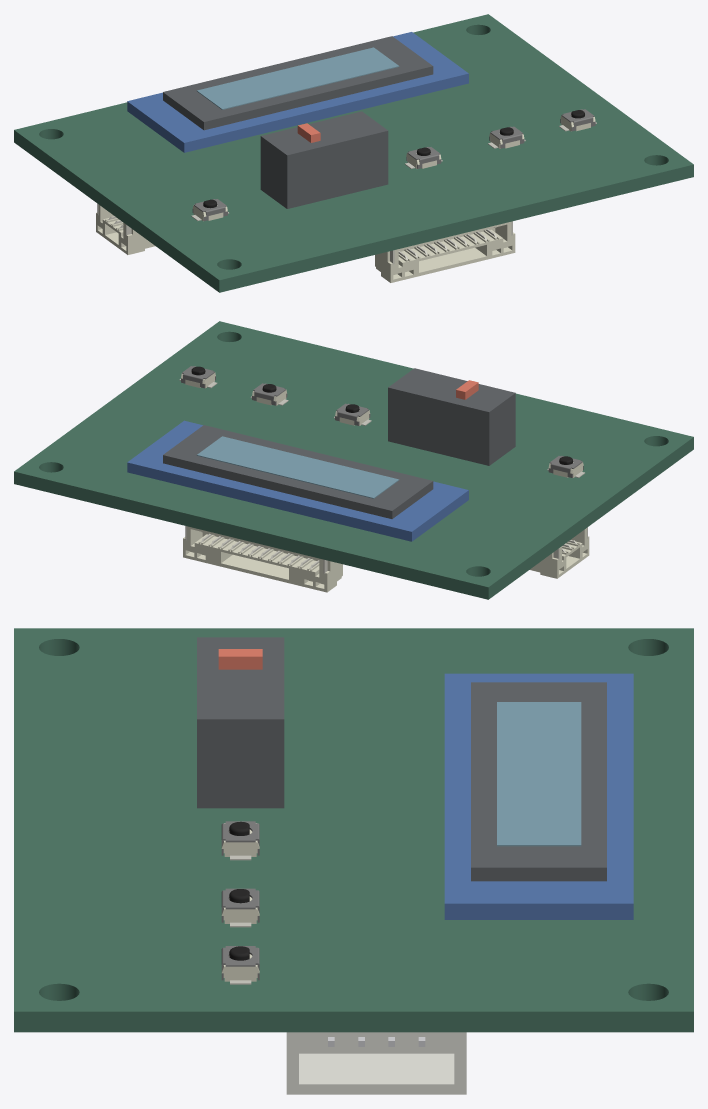
File: pump-panel-rev-f-with-display.glb
3 views of the same model, one above another, from view 1: azimuth 30°, elevation 25°; view 2: azimuth 150°, elevation 25°; view 3: azimuth 270°, elevation 25° (orthographic). The views are drawn at different scales.
Parts seen in each view (by area): view 1: =>[0:1:1:36], =>[0:1:1:9], =>[0:1:1:5], =>[0:1:1:6], =>[0:1:1:7], =>[0:1:1:35], =>[0:1:1:3] (×4), =>[0:1:1:19]; view 2: =>[0:1:1:36], =>[0:1:1:9], =>[0:1:1:5], =>[0:1:1:6], =>[0:1:1:33], =>[0:1:1:7], =>[0:1:1:3] (×4), =>[0:1:1:19]; view 3: =>[0:1:1:36], =>[0:1:1:5], =>[0:1:1:6], =>[0:1:1:9], =>[0:1:1:7], =>[0:1:1:24], =>[0:1:1:3] (×3), =>[0:1:1:27], =>[0:1:1:10], =>[0:1:1:23].
Part boxes in pixels (bbox=[...]): =>[0:1:1:36]: bbox=[14, 14, 693, 292]; =>[0:1:1:9]: bbox=[260, 111, 388, 208]; =>[0:1:1:5]: bbox=[127, 32, 468, 152]; =>[0:1:1:6]: bbox=[163, 36, 433, 130]; =>[0:1:1:7]: bbox=[197, 47, 399, 109]; =>[0:1:1:35]: bbox=[375, 221, 515, 282]; =>[0:1:1:3] (×4): bbox=[191, 109, 596, 221]; =>[0:1:1:19]: bbox=[96, 203, 155, 254]; =>[0:1:1:36]: bbox=[14, 321, 693, 599]; =>[0:1:1:9]: bbox=[388, 368, 515, 465]; =>[0:1:1:5]: bbox=[127, 420, 468, 541]; =>[0:1:1:6]: bbox=[163, 425, 433, 518]; =>[0:1:1:33]: bbox=[183, 526, 342, 592]; =>[0:1:1:7]: bbox=[196, 436, 399, 498]; =>[0:1:1:3] (×4): bbox=[179, 366, 584, 477]; =>[0:1:1:19]: bbox=[530, 527, 589, 578]; =>[0:1:1:36]: bbox=[14, 628, 693, 1032]; =>[0:1:1:5]: bbox=[444, 673, 633, 919]; =>[0:1:1:6]: bbox=[471, 682, 606, 881]; =>[0:1:1:9]: bbox=[197, 637, 284, 808]; =>[0:1:1:7]: bbox=[497, 702, 581, 846]; =>[0:1:1:24]: bbox=[286, 1053, 466, 1094]; =>[0:1:1:3] (×3): bbox=[221, 821, 259, 984]; =>[0:1:1:27]: bbox=[299, 1037, 454, 1053]; =>[0:1:1:10]: bbox=[218, 649, 262, 669]; =>[0:1:1:23]: bbox=[286, 1032, 466, 1036].
Size of the model in its own units: 0.06 by 0.014 by 0.045.
